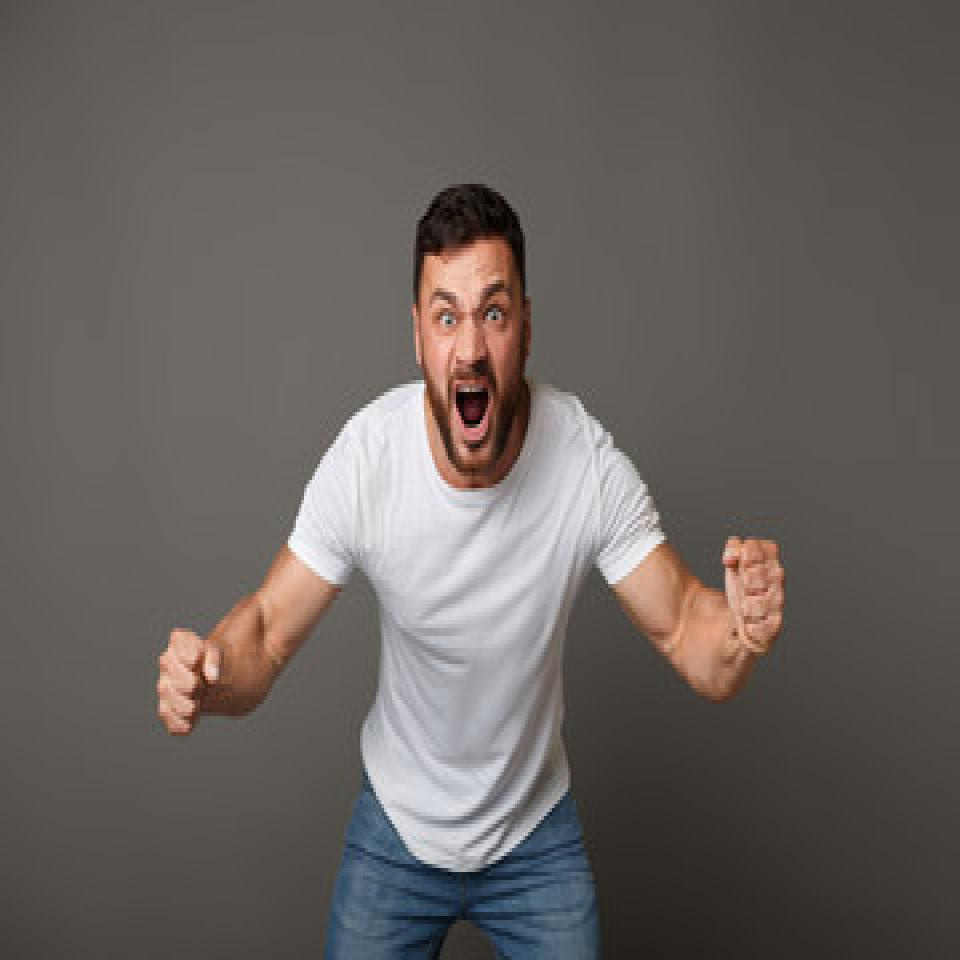Anger: (417, 256, 525, 470)
